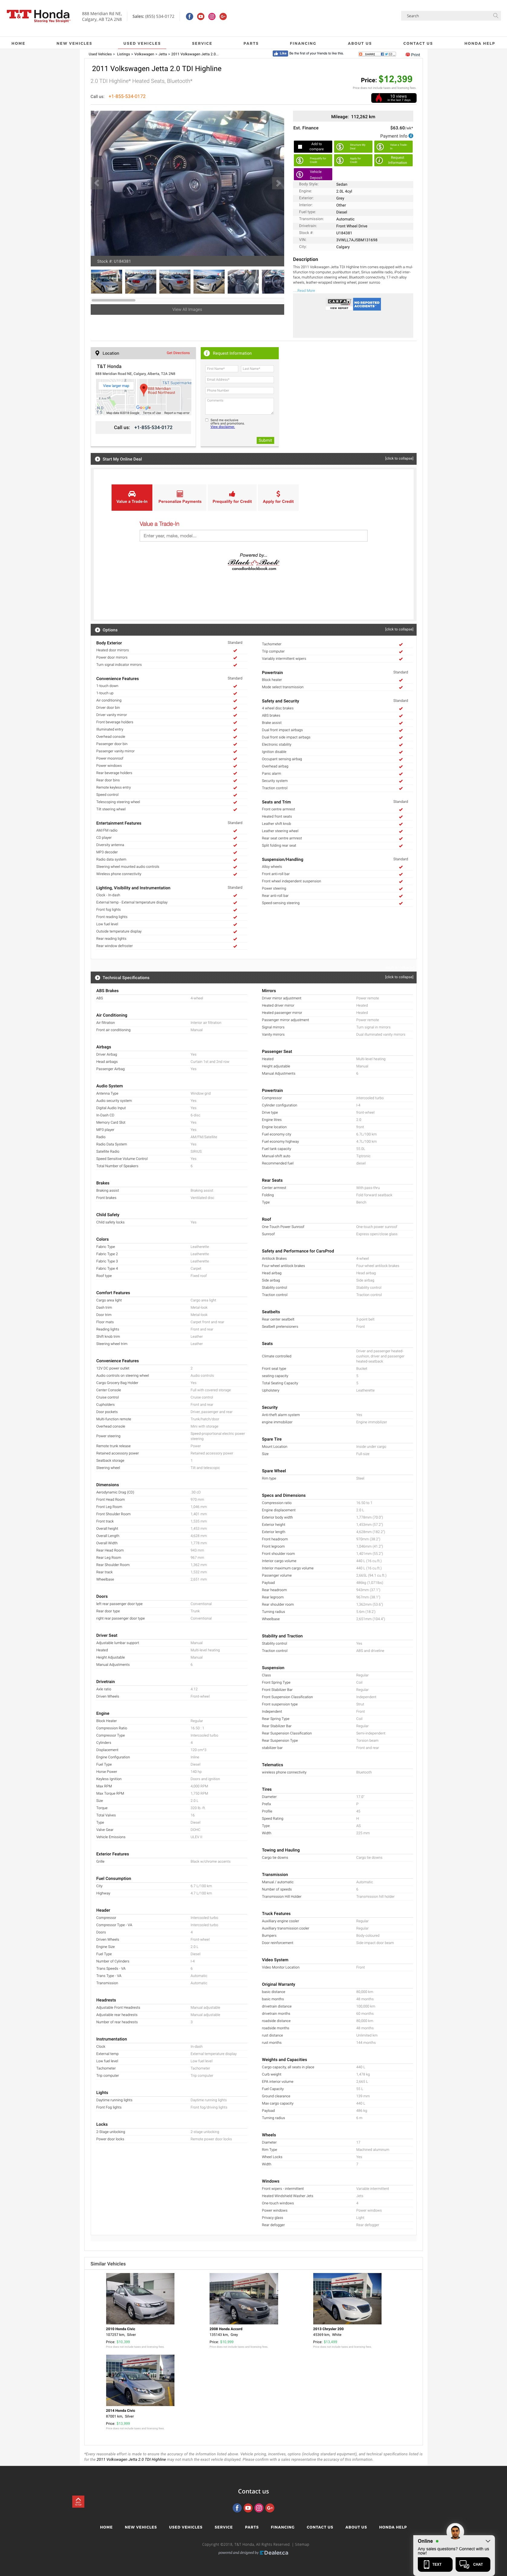car: (276, 181, 281, 187)
